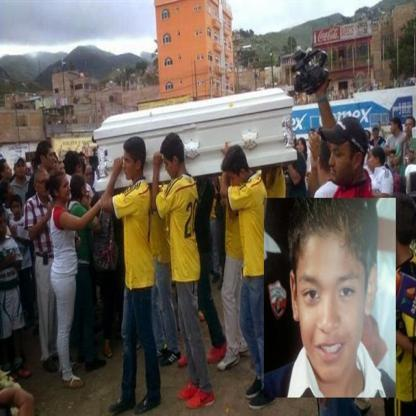face: (298, 230, 367, 382), (330, 137, 355, 184), (124, 153, 137, 181), (164, 157, 178, 179), (59, 180, 72, 201), (230, 172, 244, 190), (38, 177, 50, 196), (15, 160, 27, 177), (45, 150, 55, 169), (1, 214, 8, 235), (4, 163, 13, 179), (5, 186, 15, 198), (369, 154, 377, 168), (13, 203, 21, 217), (406, 122, 414, 135), (86, 170, 94, 183), (51, 157, 59, 170), (391, 122, 397, 133), (364, 134, 370, 145), (82, 185, 87, 198), (298, 142, 304, 152), (60, 165, 66, 175), (81, 157, 87, 167), (390, 155, 396, 164), (373, 129, 379, 137), (309, 133, 315, 140), (380, 133, 383, 140)
